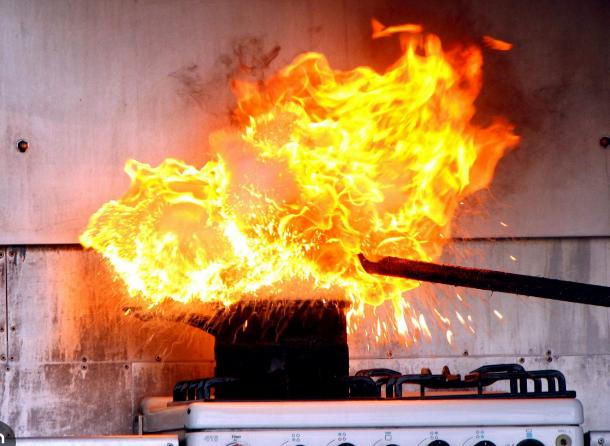fire: (66, 17, 531, 379)
